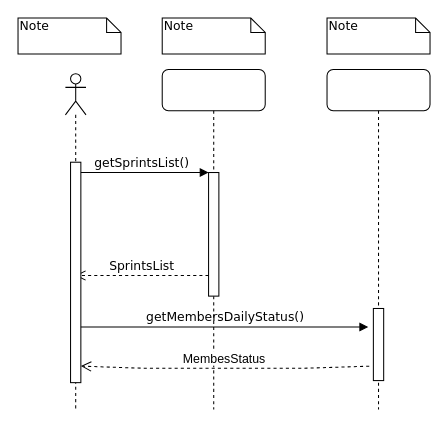
The diagram is 448 pixels wide and 427 high, and some of its shapes have lost their labels. The shapes that lost their labels are listed below. From the top down, each one's box as (x1, y1, x2, y2) in pixels, then its label:
(161, 68, 265, 409): aProject:Project
(326, 68, 430, 409): aSprint:Sprint
